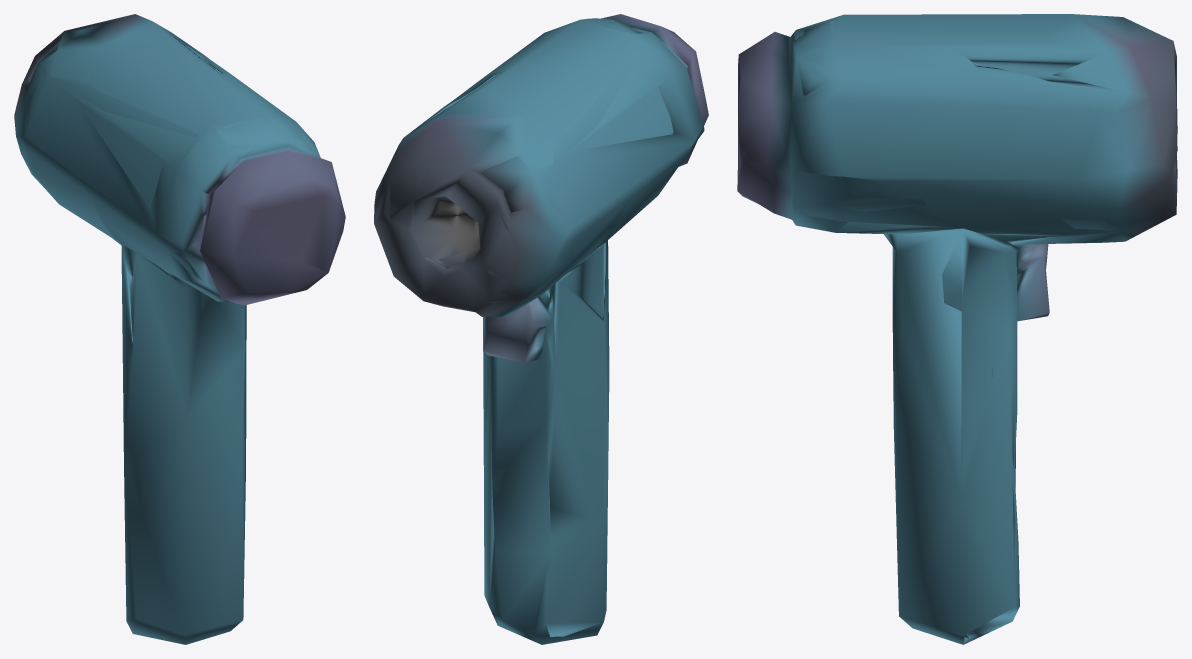
The model's file is gen3d-hair-dryer-lod1.glb.
The picture shows the model from 3 angles, left to right: view 1: azimuth 30°, elevation 25°; view 2: azimuth 150°, elevation 25°; view 3: azimuth 270°, elevation 25°; orthographic projection. The views are drawn at different scales.
Visible parts, largest first — view 1: part_0; view 2: part_0; view 3: part_0.
Boxes of the visible parts, bbox=[...] form: part_0: bbox=[14, 14, 345, 644]; part_0: bbox=[374, 14, 708, 644]; part_0: bbox=[737, 14, 1177, 644].
Size of the model in its own units: 0.3473 by 0.9992 by 0.6599.
